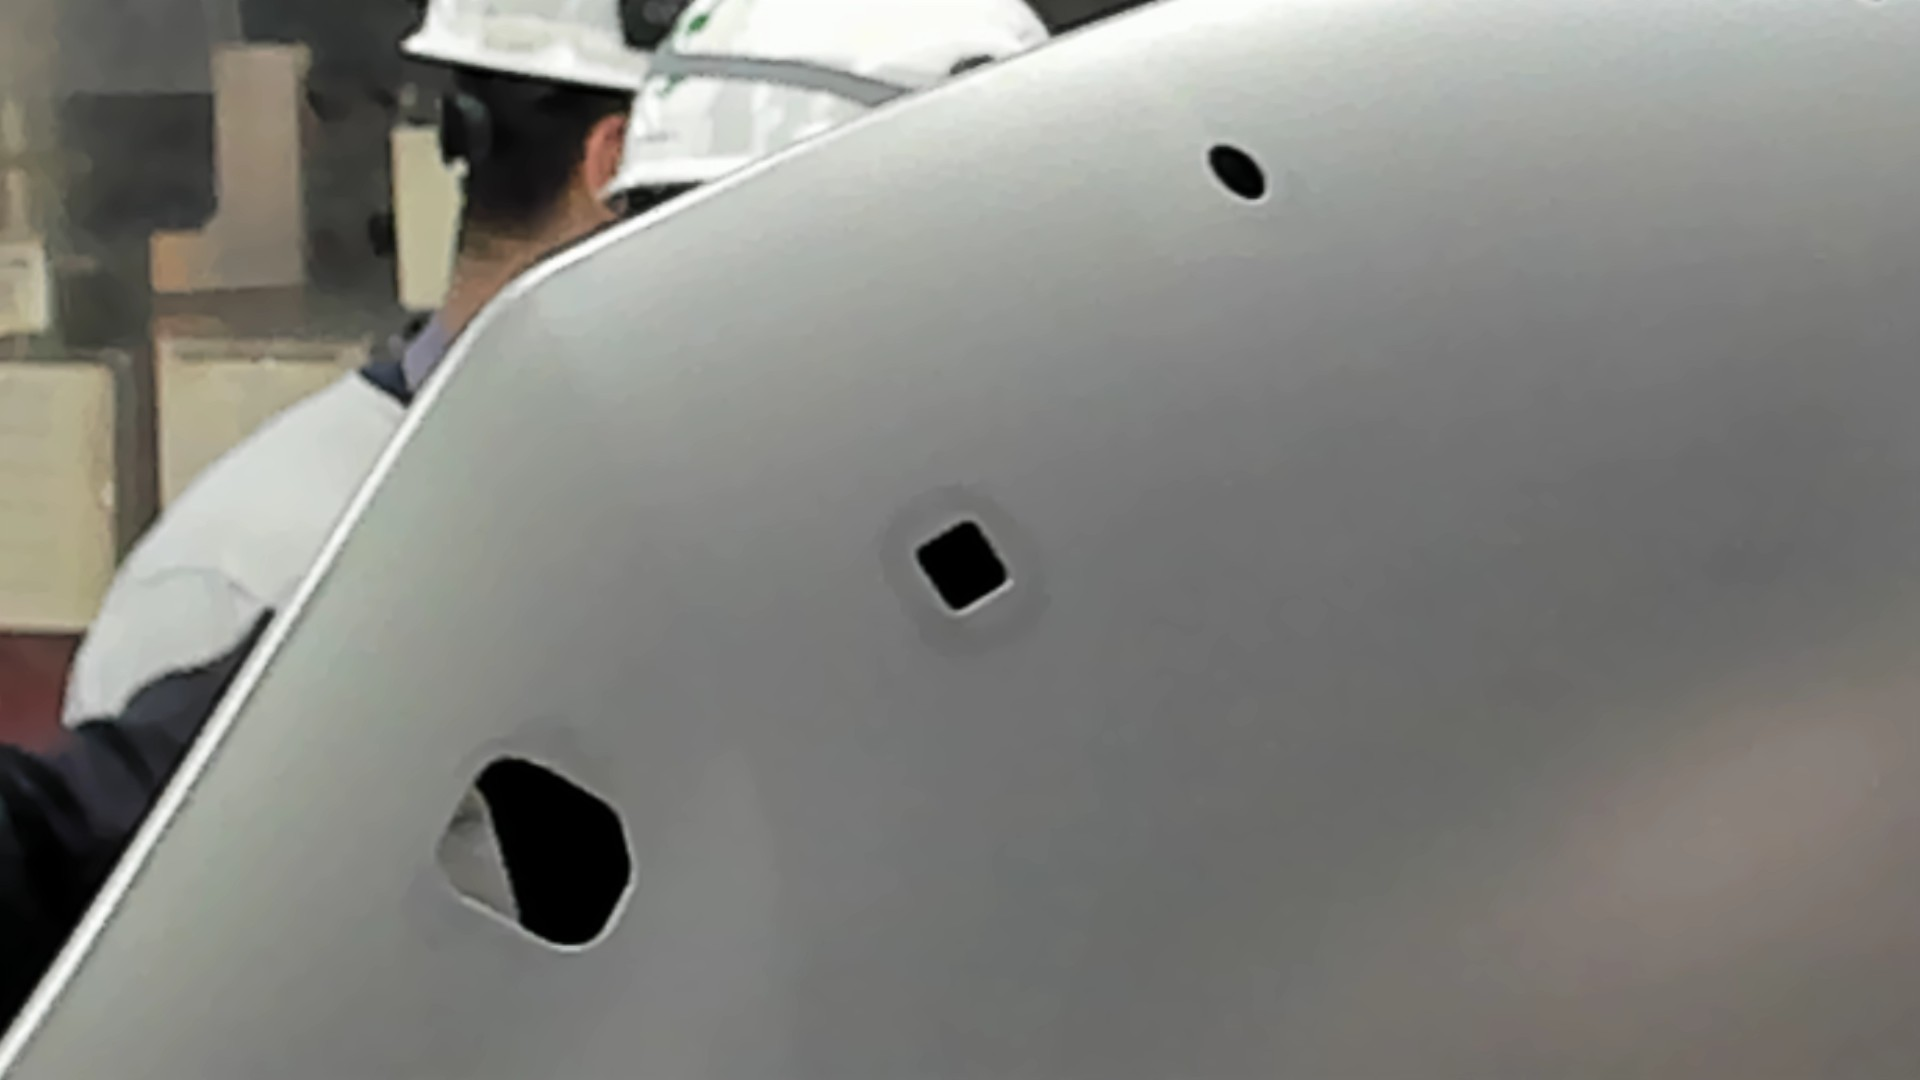capo: (1026, 210, 1920, 1080)
chico: (1200, 137, 1271, 204)
grande: (426, 742, 640, 949)
mediano: (907, 513, 1019, 622)
